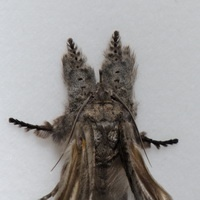insect: (9, 31, 177, 199)
